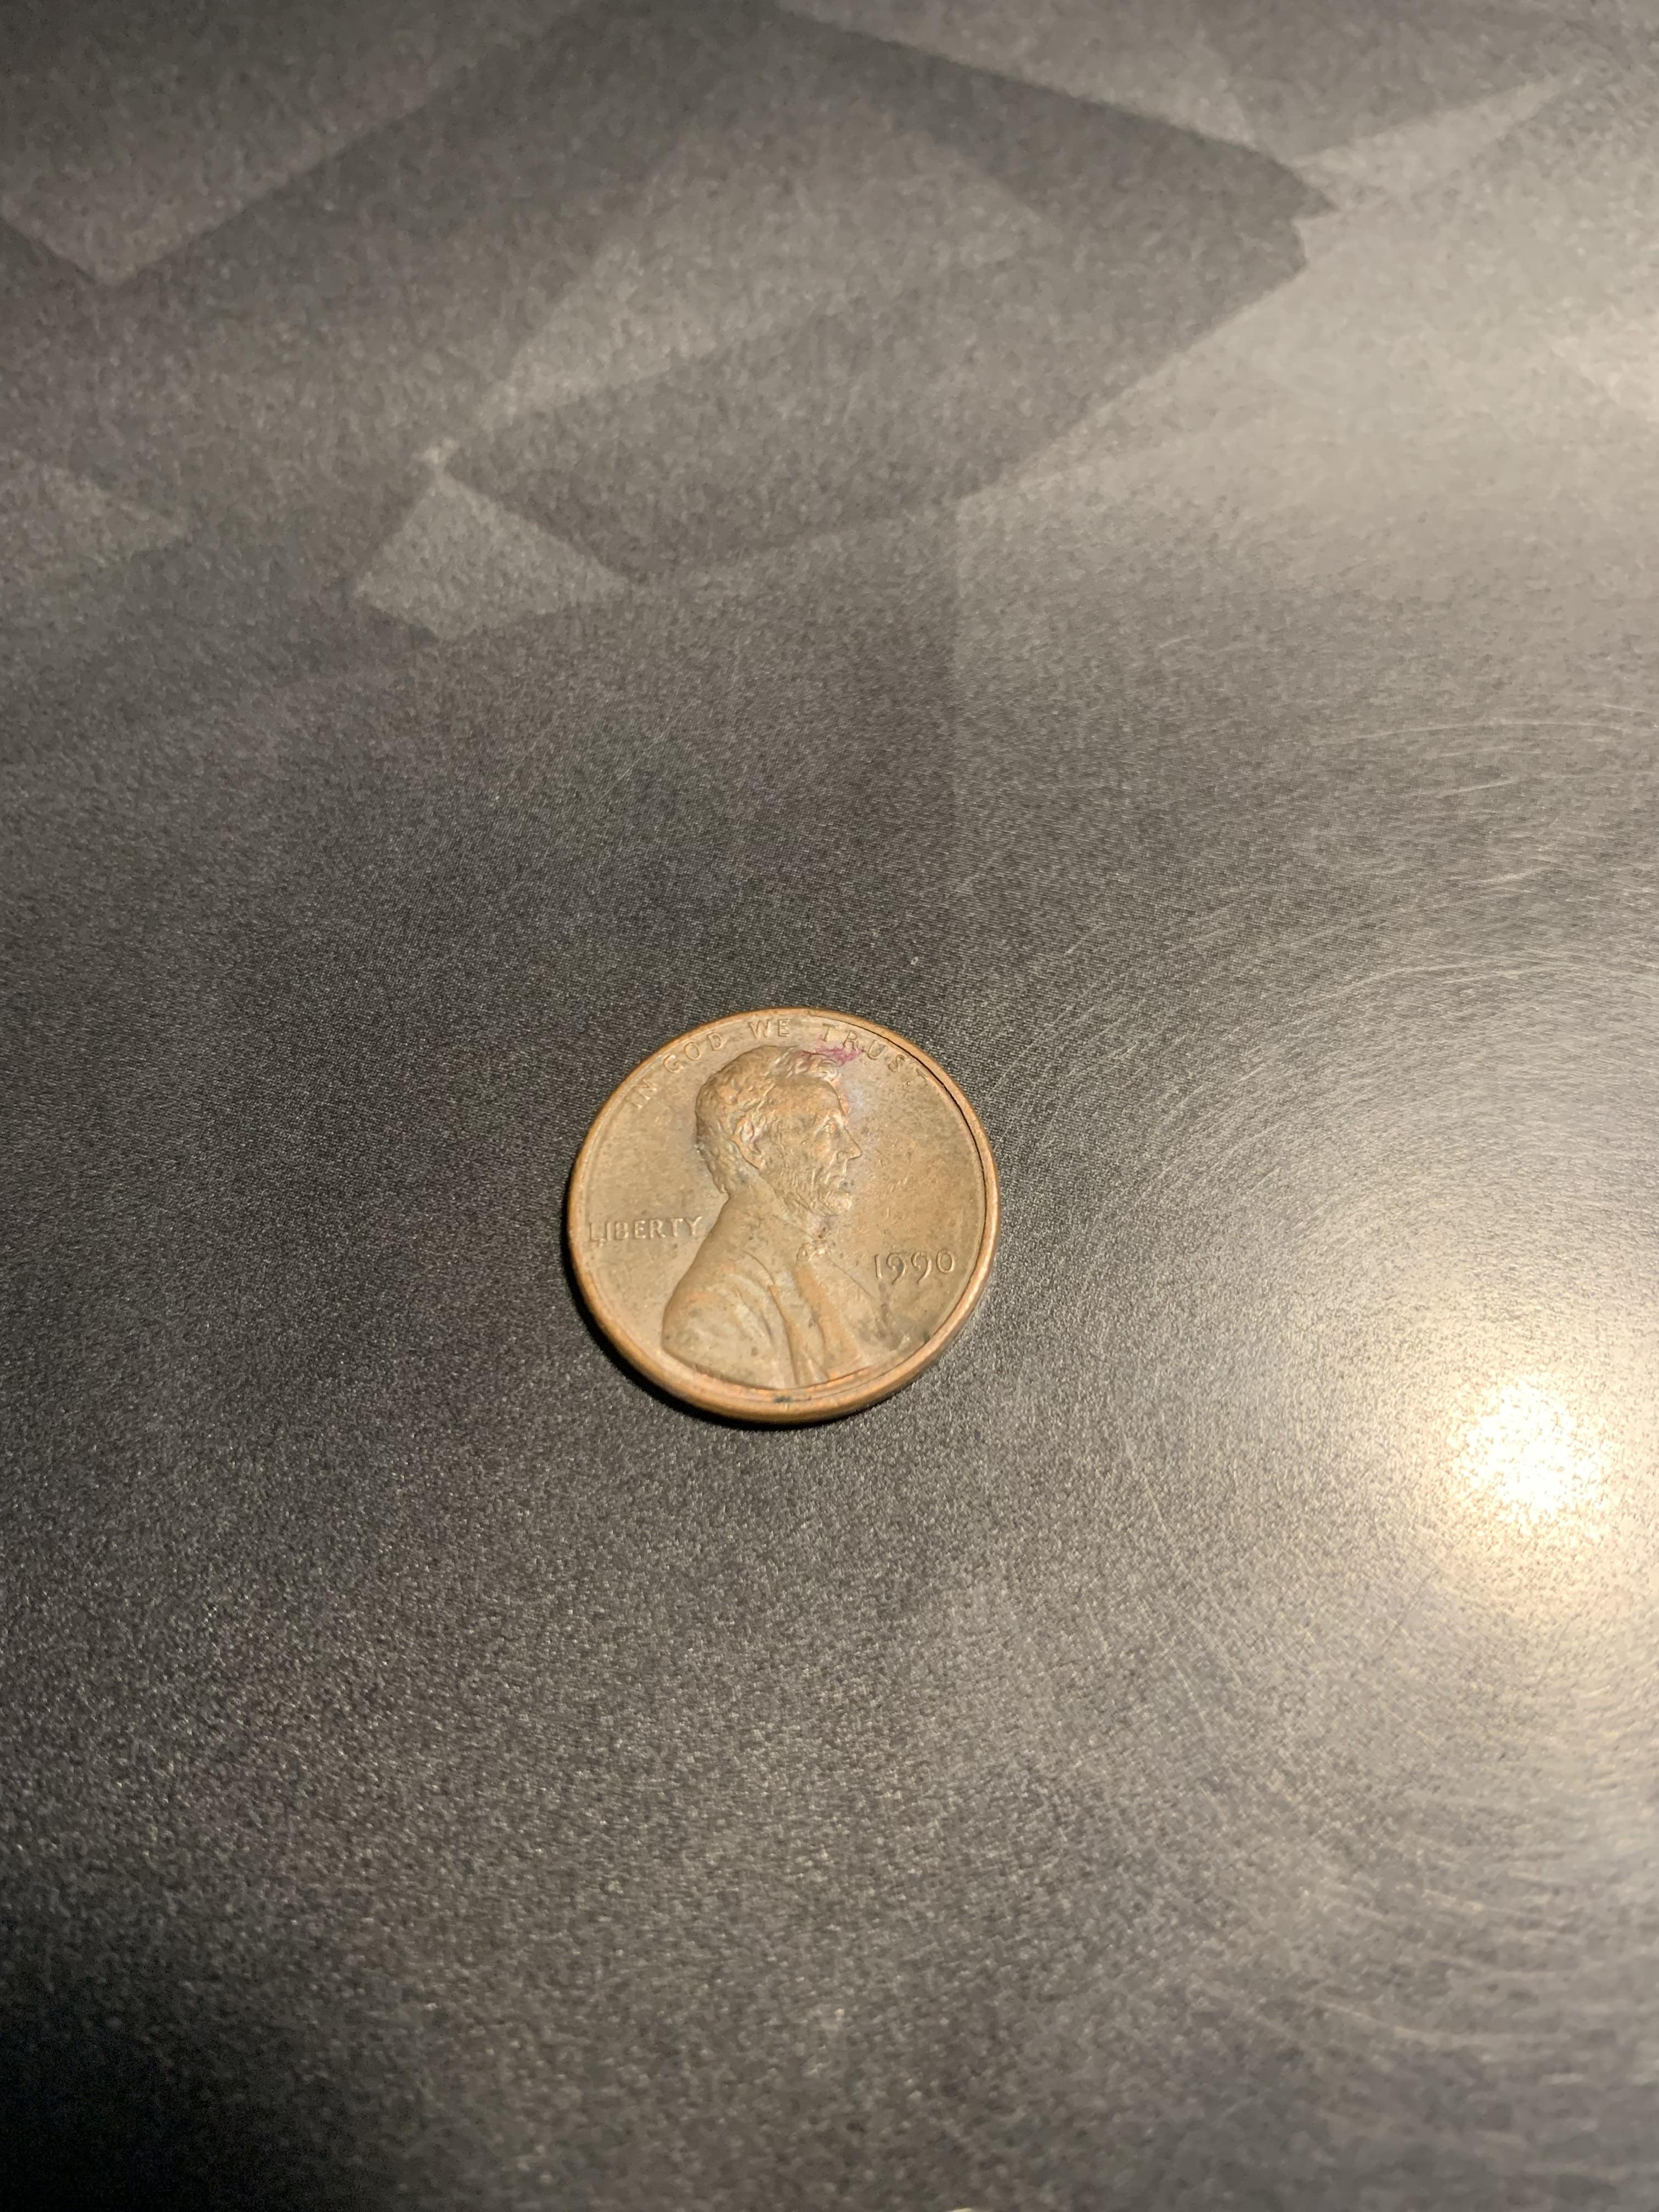Penny: (542, 984, 1030, 1437)
